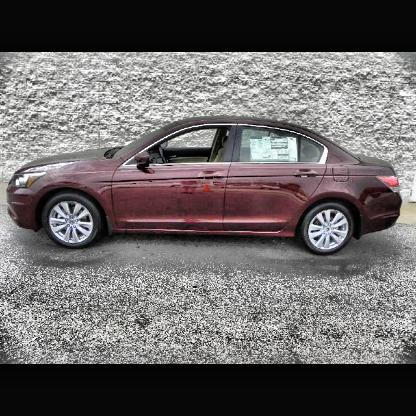Honda Accord Sedan 2012: (9, 120, 402, 254)
